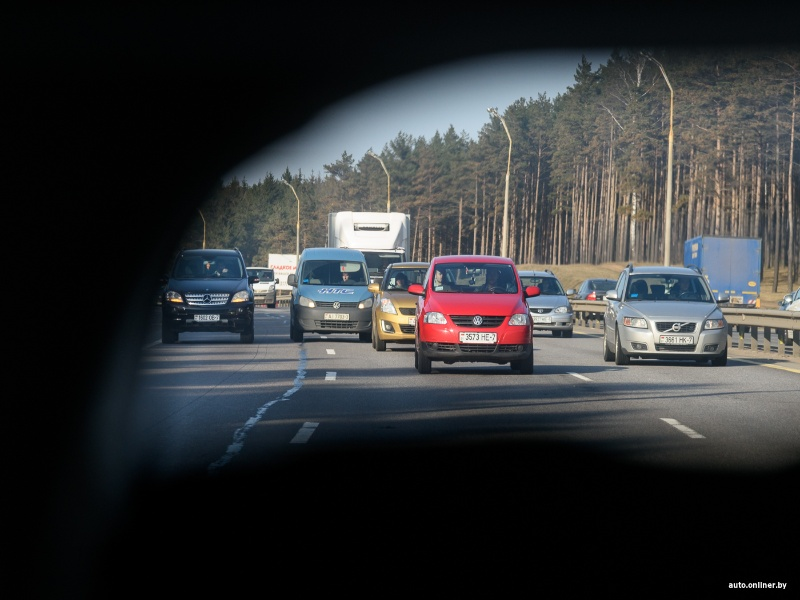car: (409, 255, 538, 375), (604, 265, 728, 364), (162, 250, 254, 339), (287, 248, 373, 339), (367, 261, 432, 352), (683, 237, 761, 311), (328, 211, 412, 263), (517, 270, 575, 336), (245, 266, 279, 308), (569, 279, 618, 299)
person: (434, 267, 450, 286), (485, 268, 499, 286), (395, 273, 406, 289), (679, 277, 690, 291), (541, 278, 550, 290), (343, 272, 349, 282)
plate: (459, 332, 496, 342), (659, 335, 694, 345), (194, 314, 219, 322), (324, 313, 349, 320), (533, 317, 551, 322)
